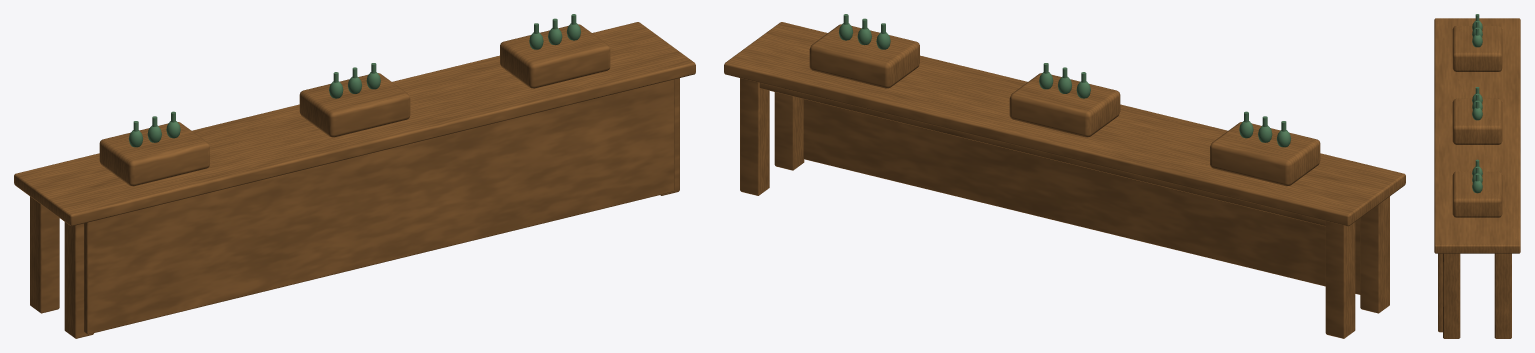
The model's file is Furn_ShopCounter.fbx.
The picture shows the model from 3 angles, left to right: view 1: azimuth 30°, elevation 25°; view 2: azimuth 150°, elevation 25°; view 3: azimuth 270°, elevation 25°; orthographic projection. The views are drawn at different scales.
Visible parts, largest first — view 1: Furn_ShopCounter_Mesh; view 2: Furn_ShopCounter_Mesh; view 3: Furn_ShopCounter_Mesh.
Boxes of the visible parts, bbox=[...] form: Furn_ShopCounter_Mesh: bbox=[14, 14, 695, 338]; Furn_ShopCounter_Mesh: bbox=[724, 14, 1405, 338]; Furn_ShopCounter_Mesh: bbox=[1434, 14, 1520, 338].
Bounding box in the file's own units: 5 × 1.38 × 0.8.
Materials: 2 (2 with a texture image).
